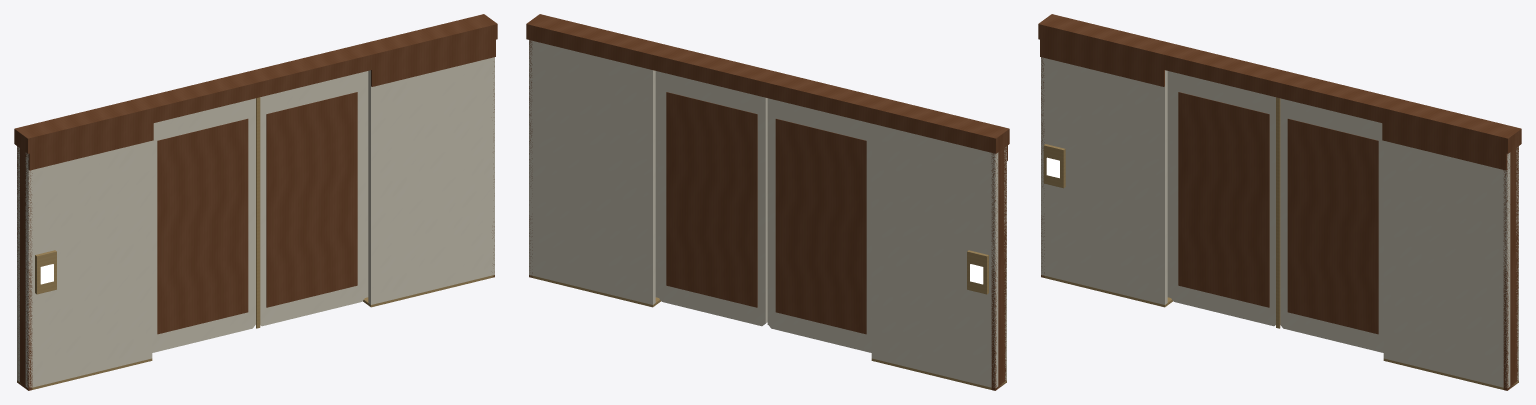
The model's file is AST-DOR-002_wide.glb.
3 views of the same model, side by side, from view 1: azimuth 30°, elevation 25°; view 2: azimuth 150°, elevation 25°; view 3: azimuth 330°, elevation 25° (orthographic).
Parts seen in each view (by area): view 1: ENTRY_fixed_ivory_enamel, ENTRY_fixed_warm_walnut, ENTRY_moving_warm_walnut, ENTRY_moving_warm_walnut.001, ENTRY_moving_ivory_enamel.001, ENTRY_moving_ivory_enamel, ENTRY_fixed_champagne_metal, ENTRY_moving_champagne_metal; view 2: ENTRY_fixed_ivory_enamel, ENTRY_moving_warm_walnut, ENTRY_moving_warm_walnut.001, ENTRY_fixed_warm_walnut, ENTRY_moving_ivory_enamel.001, ENTRY_moving_ivory_enamel, ENTRY_fixed_champagne_metal; view 3: ENTRY_fixed_ivory_enamel, ENTRY_fixed_warm_walnut, ENTRY_moving_warm_walnut, ENTRY_moving_warm_walnut.001, ENTRY_moving_ivory_enamel, ENTRY_moving_ivory_enamel.001, ENTRY_fixed_champagne_metal, ENTRY_moving_champagne_metal.
Part boxes in pixels (left/top/right/bottom): ENTRY_fixed_ivory_enamel: left=17, top=57, right=494, bottom=387; ENTRY_fixed_warm_walnut: left=14, top=14, right=497, bottom=390; ENTRY_moving_warm_walnut: left=157, top=118, right=248, bottom=334; ENTRY_moving_warm_walnut.001: left=266, top=92, right=357, bottom=307; ENTRY_moving_ivory_enamel.001: left=260, top=71, right=365, bottom=326; ENTRY_moving_ivory_enamel: left=152, top=98, right=255, bottom=352; ENTRY_fixed_champagne_metal: left=17, top=250, right=494, bottom=390; ENTRY_moving_champagne_metal: left=256, top=97, right=260, bottom=328; ENTRY_fixed_ivory_enamel: left=529, top=40, right=1006, bottom=387; ENTRY_moving_warm_walnut: left=775, top=118, right=866, bottom=334; ENTRY_moving_warm_walnut.001: left=666, top=92, right=757, bottom=307; ENTRY_fixed_warm_walnut: left=526, top=14, right=1009, bottom=390; ENTRY_moving_ivory_enamel.001: left=658, top=71, right=767, bottom=326; ENTRY_moving_ivory_enamel: left=767, top=98, right=871, bottom=352; ENTRY_fixed_champagne_metal: left=529, top=250, right=1006, bottom=390; ENTRY_fixed_ivory_enamel: left=1041, top=57, right=1518, bottom=387; ENTRY_fixed_warm_walnut: left=1038, top=14, right=1521, bottom=390; ENTRY_moving_warm_walnut: left=1178, top=92, right=1269, bottom=307; ENTRY_moving_warm_walnut.001: left=1287, top=118, right=1378, bottom=334; ENTRY_moving_ivory_enamel: left=1170, top=71, right=1275, bottom=326; ENTRY_moving_ivory_enamel.001: left=1280, top=98, right=1383, bottom=352; ENTRY_fixed_champagne_metal: left=1041, top=144, right=1518, bottom=390; ENTRY_moving_champagne_metal: left=1276, top=97, right=1280, bottom=328.
Bounding box in the file's own units: 5.16 × 2.66 × 0.35.
Materials: 4 (3 with a texture image).
